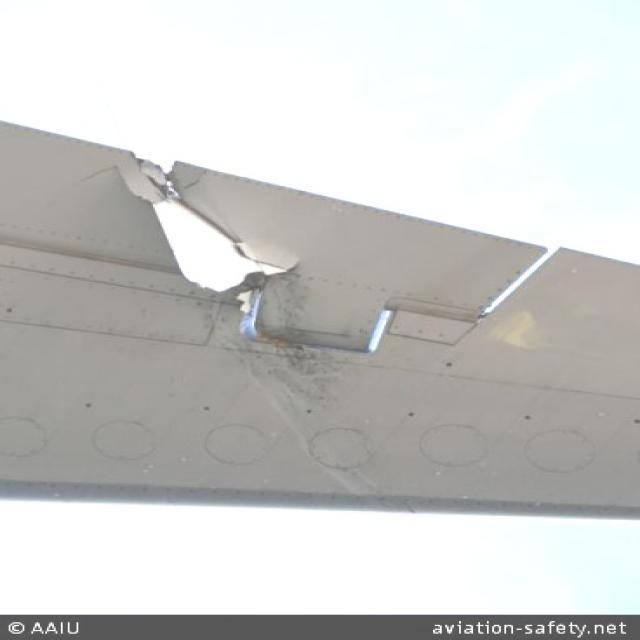crack: (114, 147, 304, 296)
